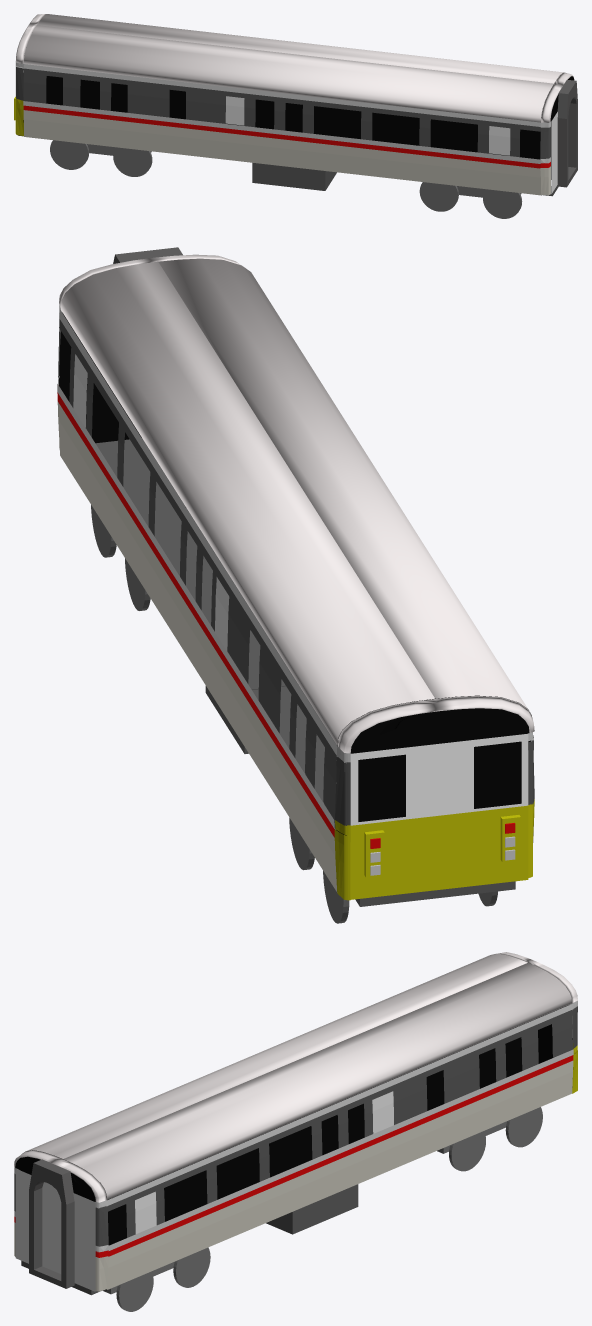
Rendered from br-mk2-dbso-ic.dae.
3 renders of one model, top to bottom at view 1: azimuth 30°, elevation 25°; view 2: azimuth 150°, elevation 25°; view 3: azimuth 270°, elevation 25°, orthographic. The views are drawn at different scales.
Parts seen in each view (by area): view 1: Suzanne_001, Plane_031, Plane_009, Plane_088, Plane_087, Plane_030, Plane_029, Tube_002, Cube, Plane_011, Plane_016, Cylinder_009 (+19 smaller); view 2: Suzanne_001, Plane_001, Plane_007, Suzanne_006, Plane_002, Plane_123, Plane_004, Plane_006, Plane_005, Plane_022, Plane, Cube_002 (+6 smaller); view 3: Suzanne_001, Plane_007, Plane_009, Plane_100, Tube_002, Plane_006, Plane_004, Plane_005, Plane_022, Cube, Suzanne, Plane_012 (+12 smaller).
Part boxes in pixels (x1,y1,x2,y2): Suzanne_001: (24,14,564,122); Plane_031: (23,110,540,195); Plane_009: (46,76,557,159); Plane_088: (24,68,540,131); Plane_087: (24,64,540,126); Plane_030: (23,105,540,168); Plane_029: (23,101,540,163); Tube_002: (557,79,577,187); Cube: (252,162,336,190); Plane_011: (127,85,169,117); Plane_016: (186,91,225,123); Cylinder_009: (113,147,152,176); Suzanne_001: (60,258,531,745); Plane_001: (350,733,528,899); Plane_007: (57,401,337,892); Suzanne_006: (338,696,534,753); Plane_002: (95,438,339,878); Plane_123: (358,741,521,821); Plane_004: (59,319,336,764); Plane_006: (59,310,337,754); Plane_005: (57,392,334,837); Plane_022: (57,384,334,828); Plane: (59,313,141,443); Cube_002: (364,815,520,877); Suzanne_001: (22,953,571,1199); Plane_007: (107,1060,573,1289); Plane_009: (108,1022,528,1245); Plane_100: (15,1169,95,1291); Tube_002: (29,1159,74,1288); Plane_006: (107,1004,572,1205); Plane_004: (107,1010,572,1211); Plane_005: (108,1055,573,1256); Plane_022: (108,1049,573,1250); Cube: (266,1184,358,1234); Suzanne: (14,1150,106,1202); Plane_012: (443,1055,479,1103).
Bounding box in the file's own units: 9.12 × 9.12 × 2.72.
